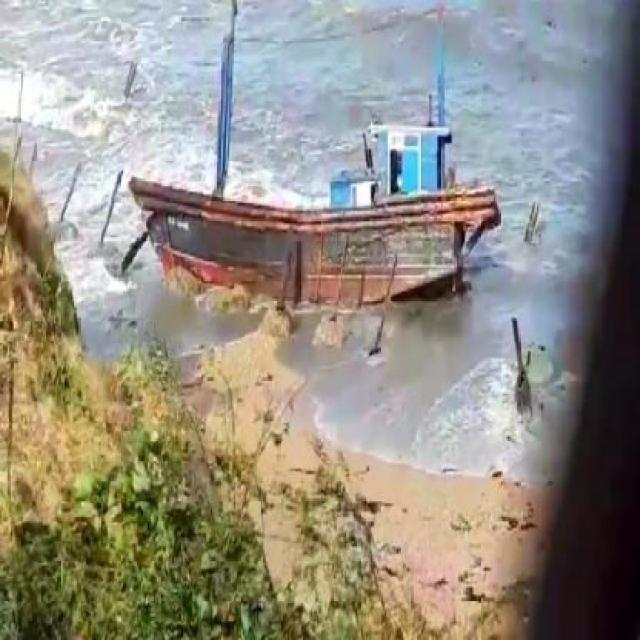fish-b: (124, 49, 510, 323)
